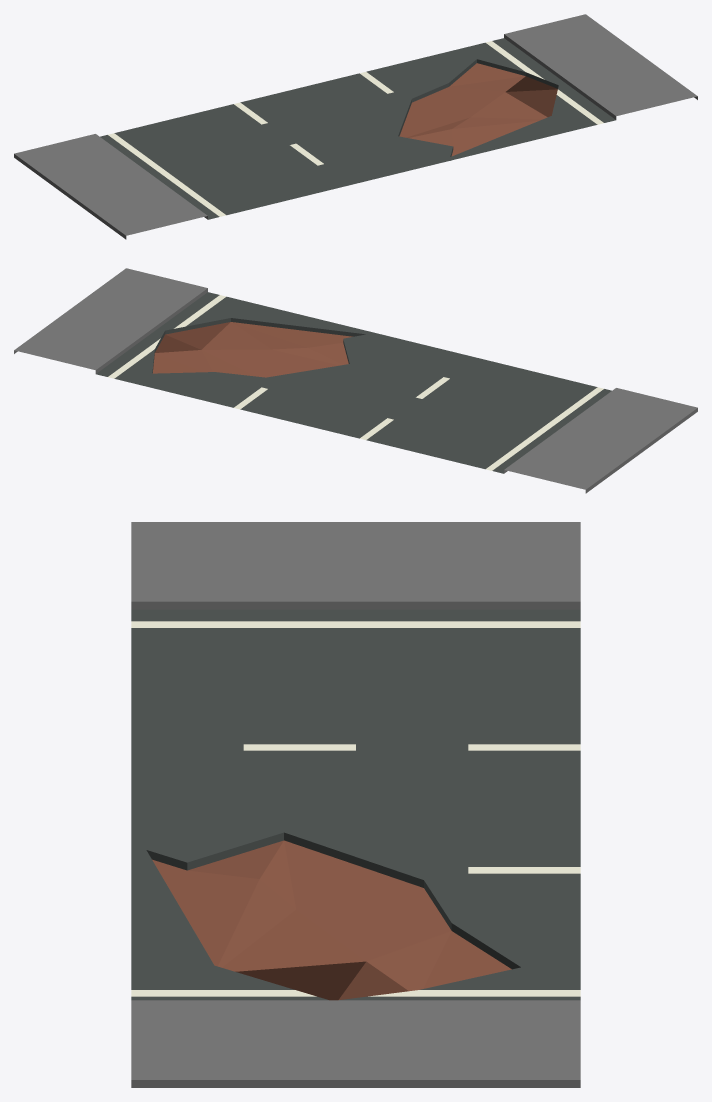
Rendered from Road_Roadworks.fbx.
3 views of the same model, one above another, from view 1: azimuth 30°, elevation 25°; view 2: azimuth 150°, elevation 25°; view 3: azimuth 270°, elevation 25° (orthographic). The views are drawn at different scales.
Visible parts, largest first — view 1: Road_Roadworks; view 2: Road_Roadworks; view 3: Road_Roadworks.
Boxes of the visible parts, x1,y1,x2,y2 form: Road_Roadworks: (14, 14, 697, 239); Road_Roadworks: (14, 268, 697, 493); Road_Roadworks: (131, 522, 580, 1087).
Size of the model in its own units: 29.4 by 0.3899 by 10.
Materials: 1 (1 with a texture image).
